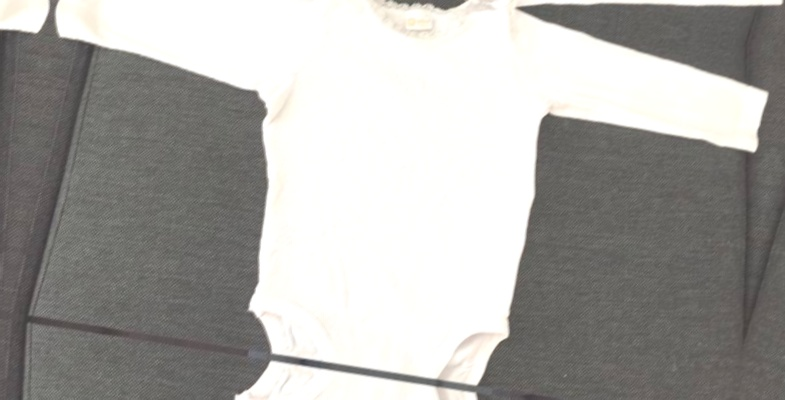Body: (16, 0, 781, 400), (0, 322, 721, 400), (76, 0, 785, 45), (739, 55, 785, 400), (0, 0, 51, 309)
